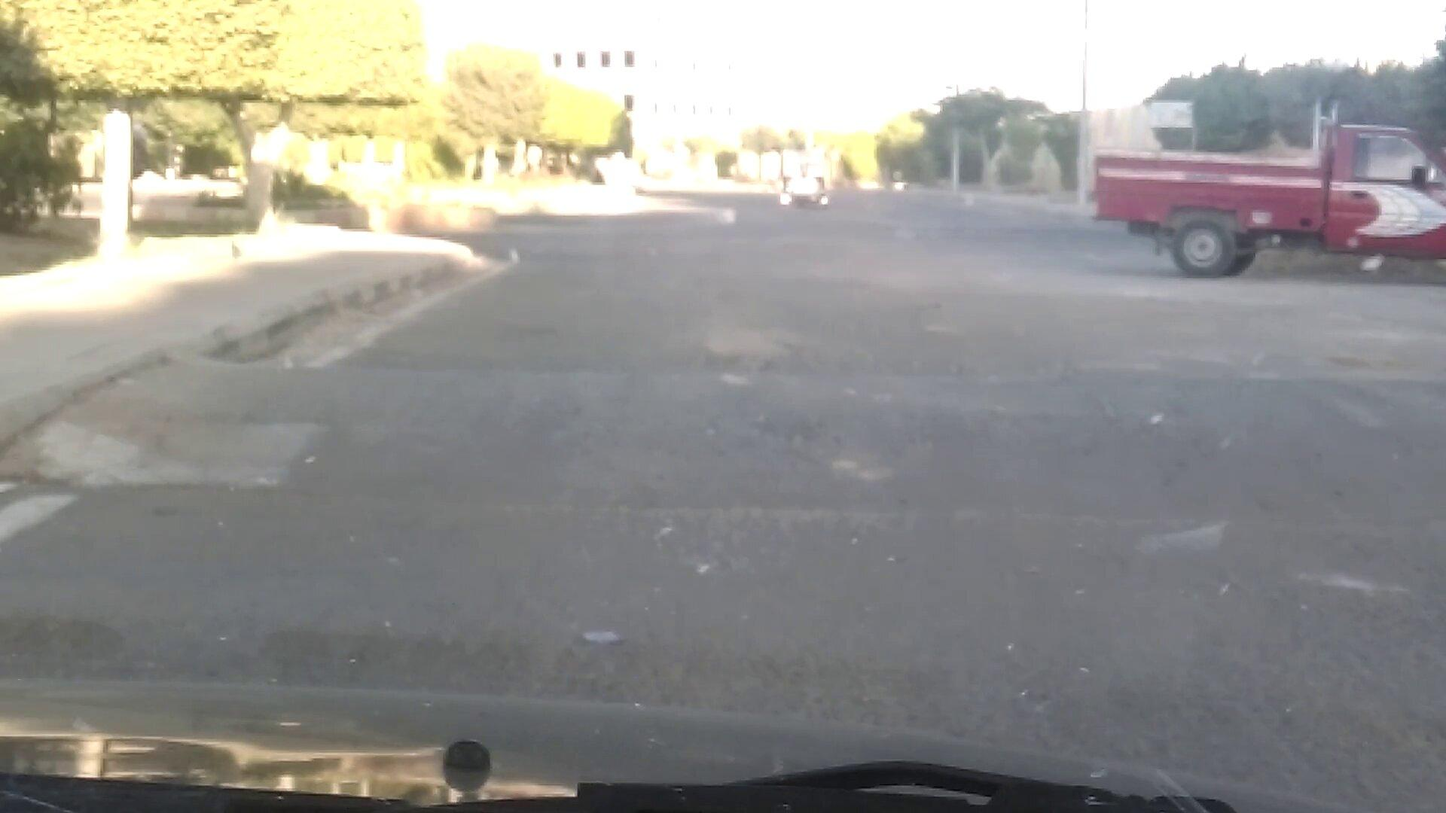Pothole: (207, 352, 1435, 555)
